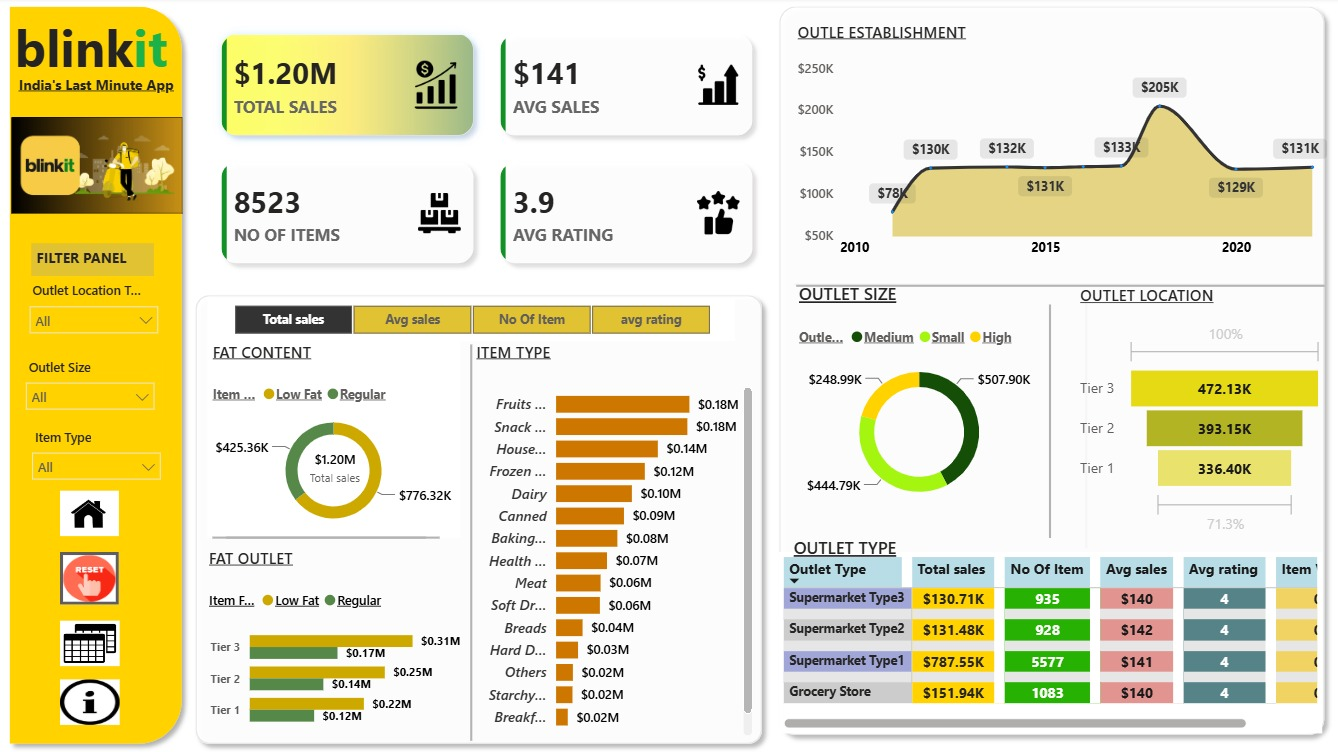

The page's visual inventory and layout, read from the dashboard file:
{"tool":"powerbi","page":{"name":"Dashboard","canvas":[1280,720],"ordinal":0},"visuals":[{"type":"shape","box":[0,0,182.1,720.2],"z":0},{"type":"cardVisual","fields":{"Data":["BlinkIT Grocery Data (2).Total sales","BlinkIT Grocery Data (2).Avg sales","BlinkIT Grocery Data (2).No Of Item","BlinkIT Grocery Data (2).avg rating"]},"box":[185.1,10.1,559.5,270.2],"z":0,"group":"g1"},{"type":"shape","box":[733.7,0,536.9,711.9],"z":1000,"group":"g1"},{"type":"textbox","box":[0,9.5,173.8,77.4],"z":1000},{"type":"lineChart","title":"OUTLE ESTABLISHMENT","fields":{"Category":["BlinkIT Grocery Data (2).Outlet Establishment Year"],"Y":["BlinkIT Grocery Data (2).Total sales"]},"box":[755.3,23.2,514.3,234.5],"z":2000,"group":"g1"},{"type":"textbox","box":[4.8,69,173.8,34.5],"z":2000},{"type":"shape","box":[177.4,274.7,557.1,445.2],"z":3000},{"type":"pivotTable","fields":{"Rows":["BlinkIT Grocery Data (2).Outlet Type"],"Values":["BlinkIT Grocery Data (2).Total sales","BlinkIT Grocery Data (2).No Of Item","BlinkIT Grocery Data (2).Avg sales","BlinkIT Grocery Data (2).avg rating","Avg(BlinkIT Grocery Data (2).Item Visibility)"]},"box":[742.1,528.6,517.9,172.6],"z":3000,"group":"g1"},{"type":"slicer","fields":{"Values":["BlinkIT Grocery Data (2).Outlet Location Type"]},"box":[17.3,266.7,142.9,64.3],"z":4000,"group":"g1"},{"type":"donutChart","title":"FAT CONTENT","fields":{"Y":["BlinkIT Grocery Data (2).Total sales"],"Category":["BlinkIT Grocery Data (2).Item Fat Content"]},"box":[197.6,327.4,240.5,188.1],"z":4000},{"type":"donutChart","title":"OUTLET SIZE","fields":{"Category":["BlinkIT Grocery Data (2).Outlet Size"],"Y":["BlinkIT Grocery Data (2).Total sales"]},"box":[756.4,271.6,239.3,225],"z":5000,"group":"g1"},{"type":"slicer","fields":{"Values":["BlinkIT Grocery Data (2).Outlet Size"]},"box":[14.3,339.3,142.9,64.3],"z":5000},{"type":"funnel","title":"OUTLET LOCATION","fields":{"Category":["BlinkIT Grocery Data (2).Outlet Location Type"],"Y":["Sum(BlinkIT Grocery Data (2).Sales)"]},"box":[1024,274,241.7,242.9],"z":6000,"group":"g1"},{"type":"slicer","fields":{"Values":["BlinkIT Grocery Data (2).Item Type"]},"box":[20.2,406,142.9,64.3],"z":6000},{"type":"slicer","fields":{"Values":["Metrics.Metrics"]},"box":[197.6,286.9,502.4,40.5],"z":7000},{"type":"image","box":[10.7,63.1,163.1,194],"z":8000,"group":"g1"},{"type":"cardVisual","fields":{"Data":["BlinkIT Grocery Data (2).Total sales"]},"box":[265.5,409.5,107.1,77.4],"z":8000},{"type":"clusteredBarChart","title":"FAT OUTLET","fields":{"Y":["BlinkIT Grocery Data (2).Total sales"],"Category":["BlinkIT Grocery Data (2).Outlet Location Type"],"Series":["BlinkIT Grocery Data (2).Item Fat Content"]},"box":[194,523.8,251.2,184.5],"z":9000},{"type":"shape","box":[202.4,504.8,203.6,20.2],"z":10000},{"type":"shape","box":[426.2,331,45.2,377.4],"z":11000},{"type":"barChart","title":"ITEM TYPE","fields":{"Y":["BlinkIT Grocery Data (2).Total sales"],"Category":["BlinkIT Grocery Data (2).Item Type"]},"box":[448.8,327.4,272.6,381],"z":12000},{"type":"shape","box":[215.5,504.8,203.6,20.2],"z":13000},{"type":"shape","box":[756,267.9,503.6,11.9],"z":14000},{"type":"shape","box":[1011.9,286.9,45.2,238.1],"z":15000},{"type":"group","id":"g1","title":"Group 1","box":[10.7,0,1259.5,711.9],"z":16000},{"type":"shape","box":[977.4,292.9,45.2,222.6],"z":17000},{"type":"shape","title":"OUTLET TYPE","box":[756,513.1,503.6,23.8],"z":18000},{"type":"shape","box":[758.3,269,503.6,11.9],"z":19000},{"type":"actionButton","box":[57.1,470.2,56,42.9],"z":20000},{"type":"actionButton","box":[57.1,528.6,56,50],"z":21000},{"type":"actionButton","box":[57.6,594.4,56.4,43.2],"z":22000},{"type":"actionButton","box":[57.6,649.6,56.4,43.2],"z":23000},{"type":"textbox","box":[29.8,234.5,116.7,31],"z":24000}]}

Visuals, with their boxes in screenshot pixels (x1, y1, x2, y2), scaled from the page's 1280x720 canvas onto the 1338x752 screenshot:
shape: box(0, 0, 190, 751)
cardVisual - BlinkIT Grocery Data (2).Total sales x BlinkIT Grocery Data (2).Avg sales: box(193, 11, 778, 293)
shape: box(767, 0, 1328, 744)
textbox: box(0, 10, 182, 91)
"OUTLE ESTABLISHMENT" lineChart: box(790, 24, 1327, 269)
textbox: box(5, 72, 187, 108)
shape: box(185, 287, 768, 751)
pivotTable - BlinkIT Grocery Data (2).Outlet Type x BlinkIT Grocery Data (2).Total sales: box(776, 552, 1317, 732)
slicer - BlinkIT Grocery Data (2).Outlet Location Type: box(18, 279, 167, 346)
"FAT CONTENT" donutChart: box(207, 342, 458, 538)
"OUTLET SIZE" donutChart: box(791, 284, 1041, 519)
slicer - BlinkIT Grocery Data (2).Outlet Size: box(15, 354, 164, 422)
"OUTLET LOCATION" funnel: box(1070, 286, 1323, 540)
slicer - BlinkIT Grocery Data (2).Item Type: box(21, 424, 170, 491)
slicer - Metrics.Metrics: box(207, 300, 732, 342)
image: box(11, 66, 182, 269)
cardVisual - BlinkIT Grocery Data (2).Total sales: box(278, 428, 389, 509)
"FAT OUTLET" clusteredBarChart: box(203, 547, 465, 740)
shape: box(212, 527, 424, 548)
shape: box(446, 346, 493, 740)
"ITEM TYPE" barChart: box(469, 342, 754, 740)
shape: box(225, 527, 438, 548)
shape: box(790, 280, 1317, 292)
shape: box(1058, 300, 1105, 548)
"Group 1" group: box(11, 0, 1328, 744)
shape: box(1022, 306, 1069, 538)
"OUTLET TYPE" shape: box(790, 536, 1317, 561)
shape: box(793, 281, 1319, 293)
actionButton: box(60, 491, 118, 536)
actionButton: box(60, 552, 118, 604)
actionButton: box(60, 621, 119, 666)
actionButton: box(60, 678, 119, 724)
textbox: box(31, 245, 153, 277)
